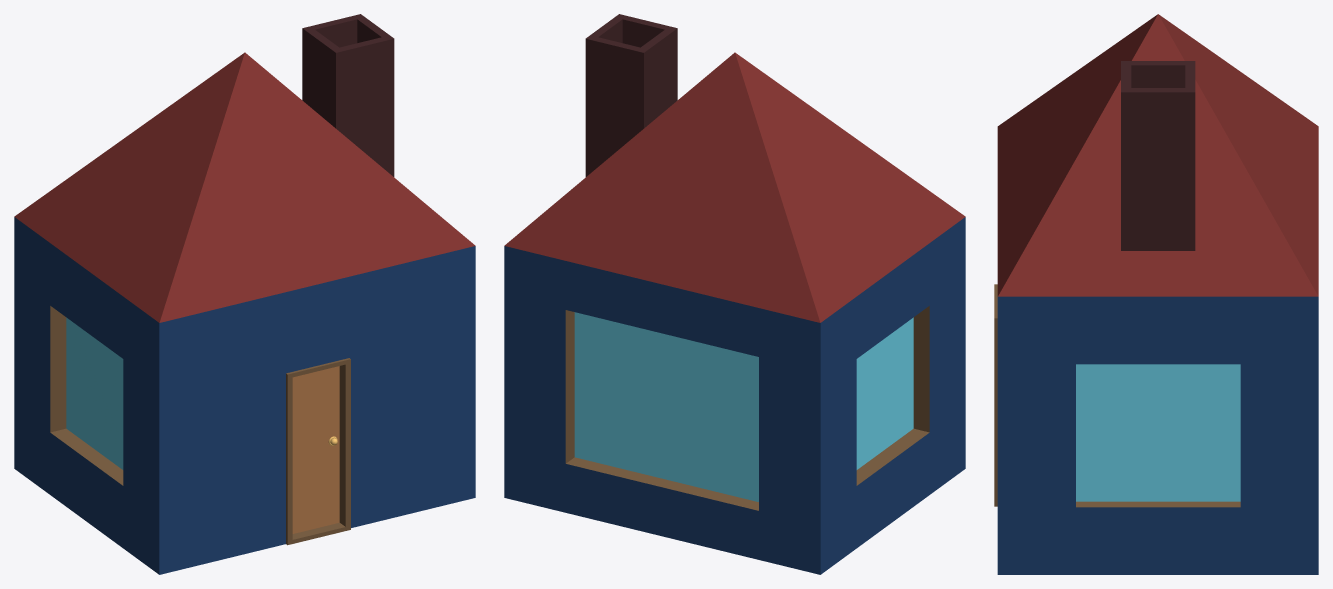
File: House.fbx
The picture shows the model from 3 angles, left to right: view 1: azimuth 30°, elevation 25°; view 2: azimuth 150°, elevation 25°; view 3: azimuth 270°, elevation 25°; orthographic projection. The views are drawn at different scales.
Visible parts, largest first — view 1: House, Chiminey; view 2: House, Chiminey; view 3: House, Chiminey.
Boxes of the visible parts, x1,y1,x2,y2 form: House: (14, 52, 475, 574); Chiminey: (302, 14, 394, 176); House: (504, 52, 965, 574); Chiminey: (585, 14, 677, 176); House: (994, 14, 1318, 574); Chiminey: (1121, 61, 1195, 250).
Bounding box in the file's own units: 1083 × 1410 × 871.
